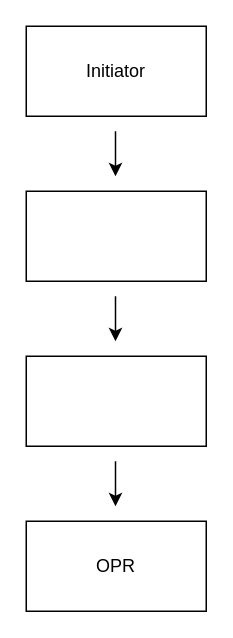
Some shapes in this 233 by 638 pixel diagram are drawn without their labels. Each missing label, with the centre of its shape:
URE-CT: the point at 115,235
URE-CT-ET: the point at 115,400
